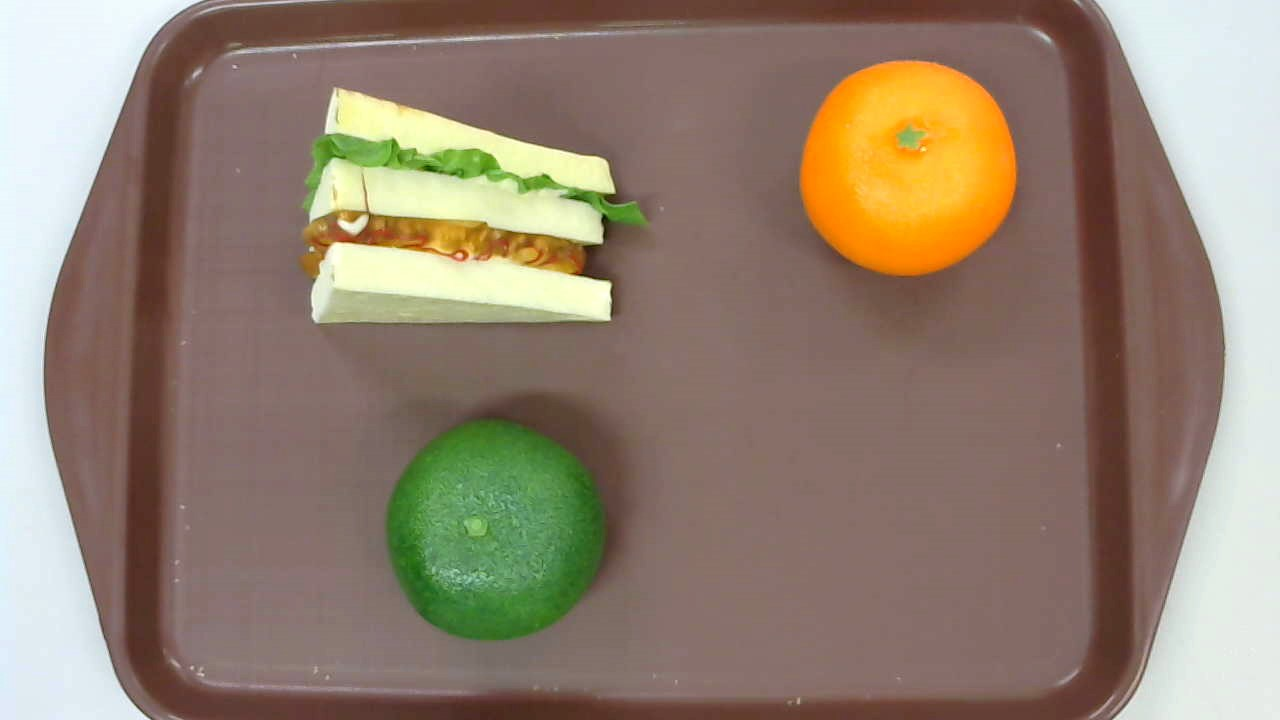green orange: (386, 419, 608, 641)
orange: (800, 59, 1018, 277)
sandwich: (301, 86, 650, 329)
